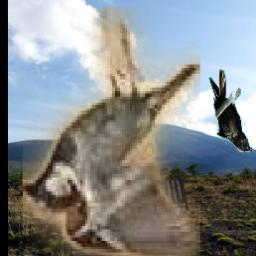Crow: (209, 69, 254, 153)
Sparrow: (24, 8, 201, 256)
